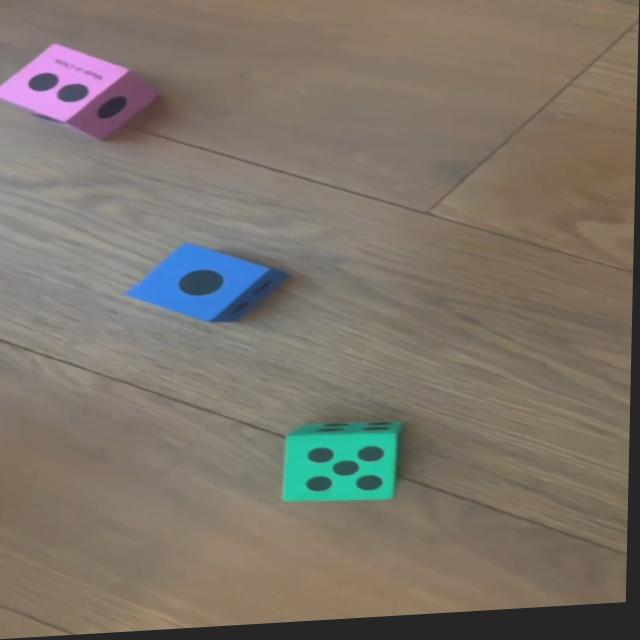cube: (130, 242, 291, 330), (280, 424, 406, 510)
